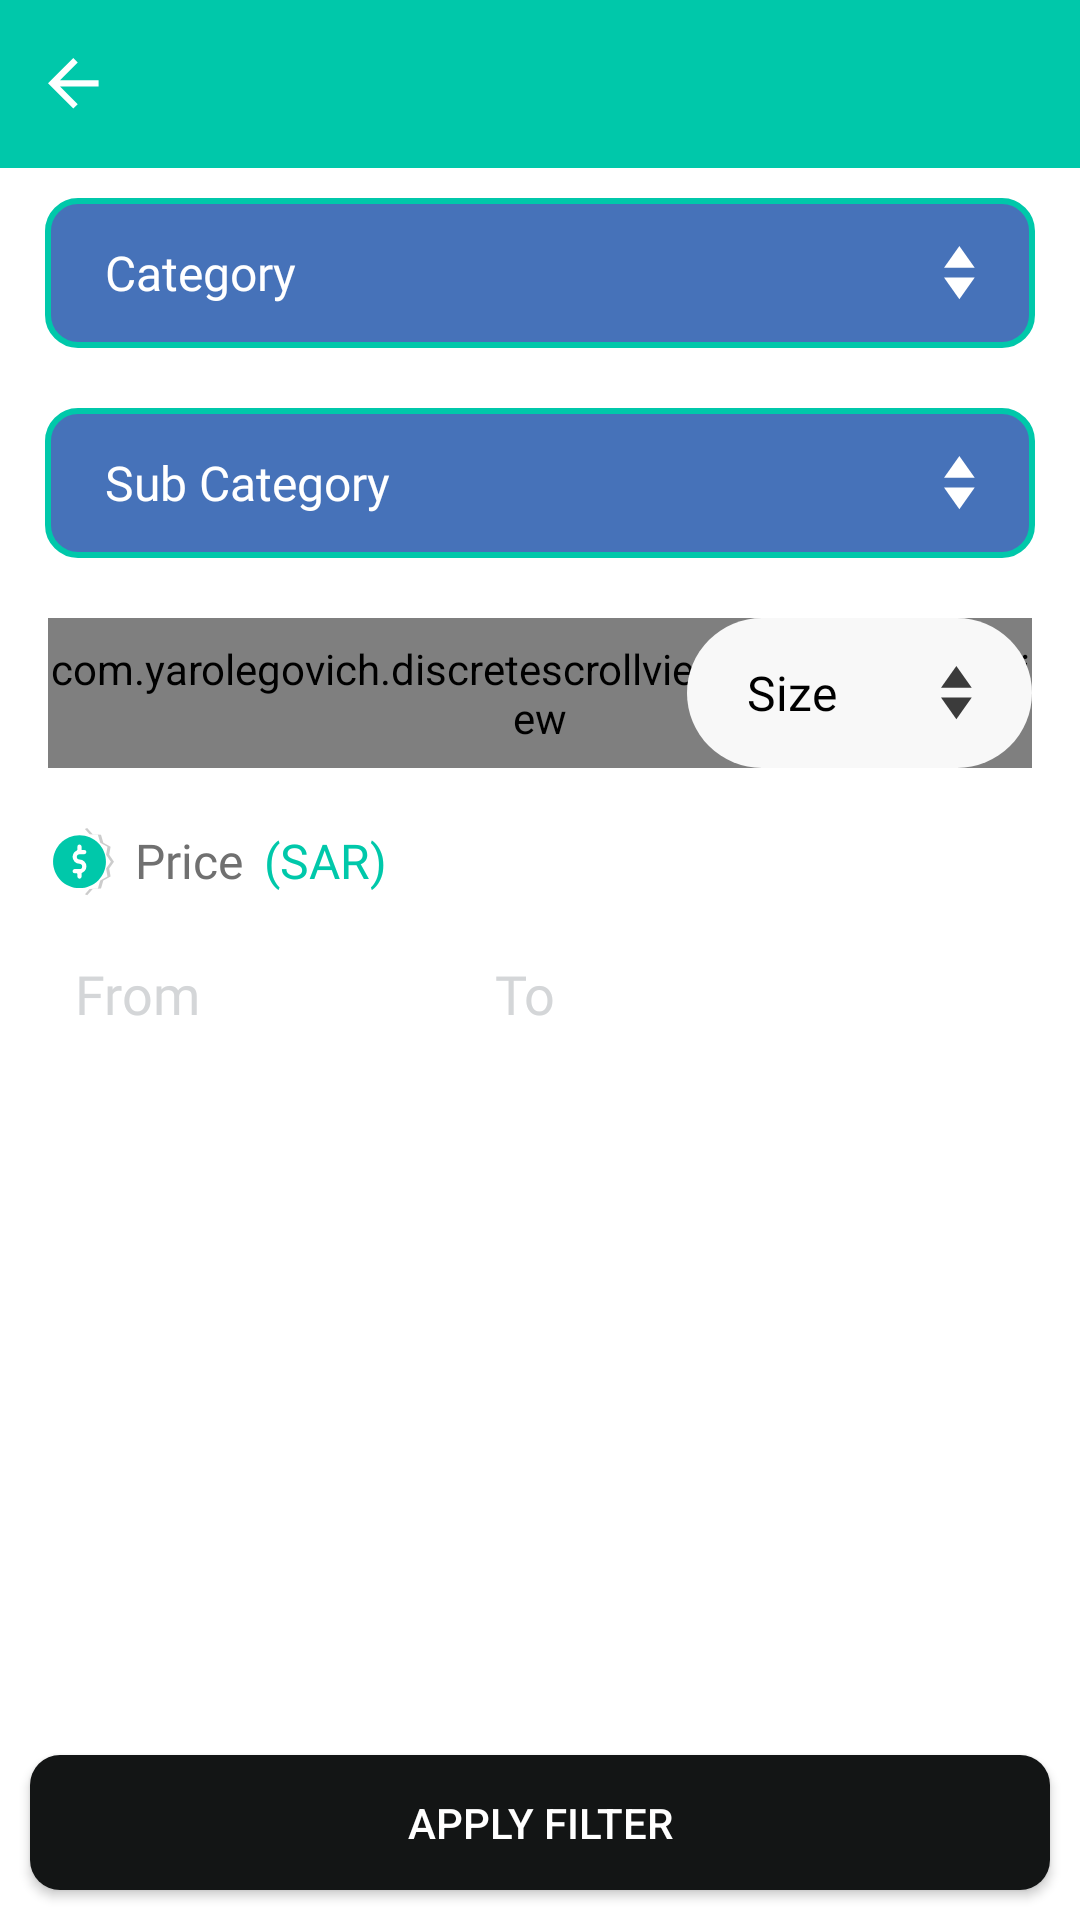

Where icons sit on this 1080x1920 app screen, as (x1, y1, x2, y2):
back: (48, 58, 99, 109)
